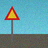sign: (4, 6, 20, 42)
